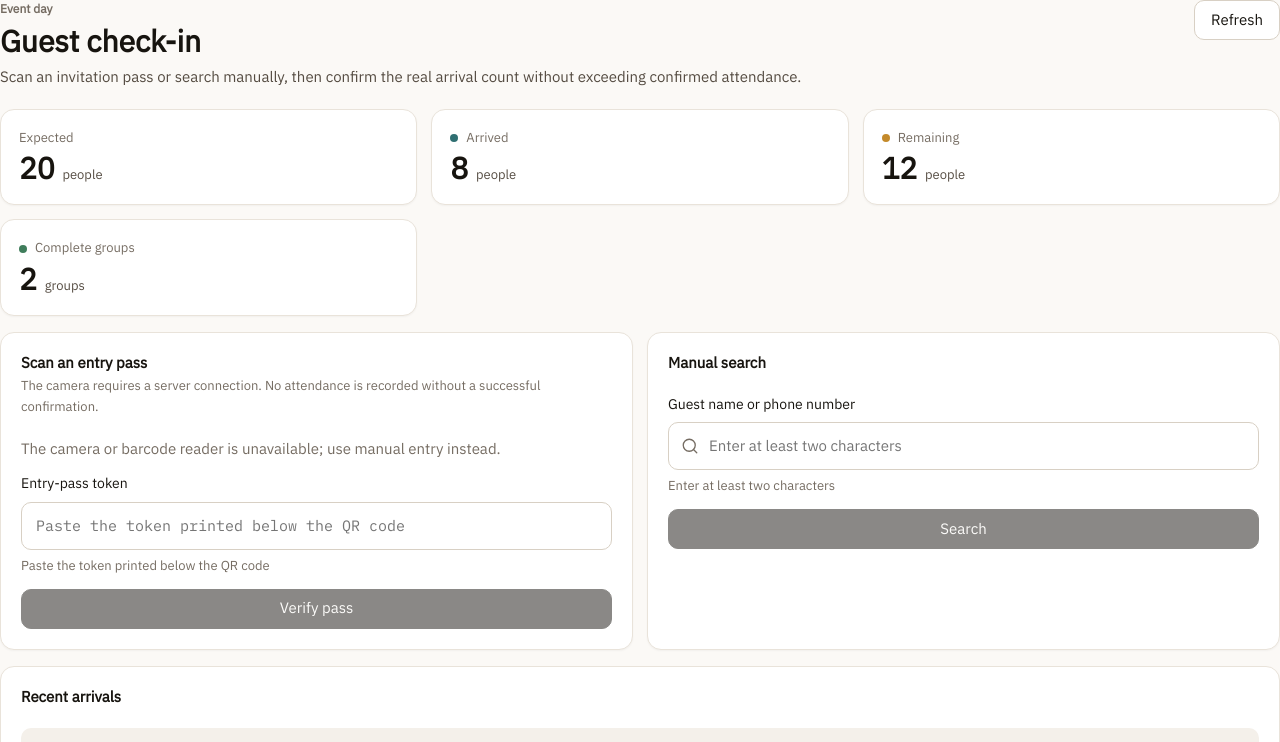
Scenario: event check-in › surfaces a failed check-in instead of assuming success
This screenshot has width=1280, height=742.
Step 1. Type "Shammari" into the field labelled "Guest name or phone number" → (976, 446), box [707,433,1246,459]
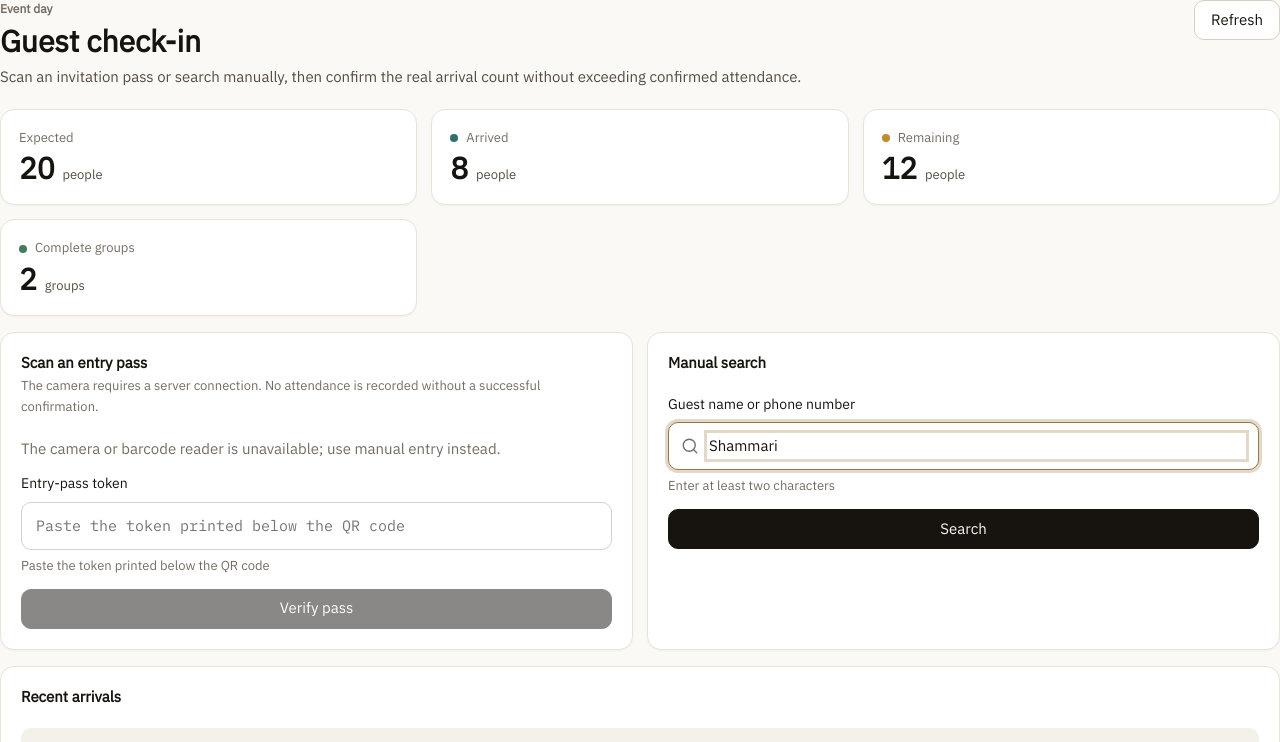
Step 2. Click the button "Search" → (964, 529), box [668,509,1259,549]
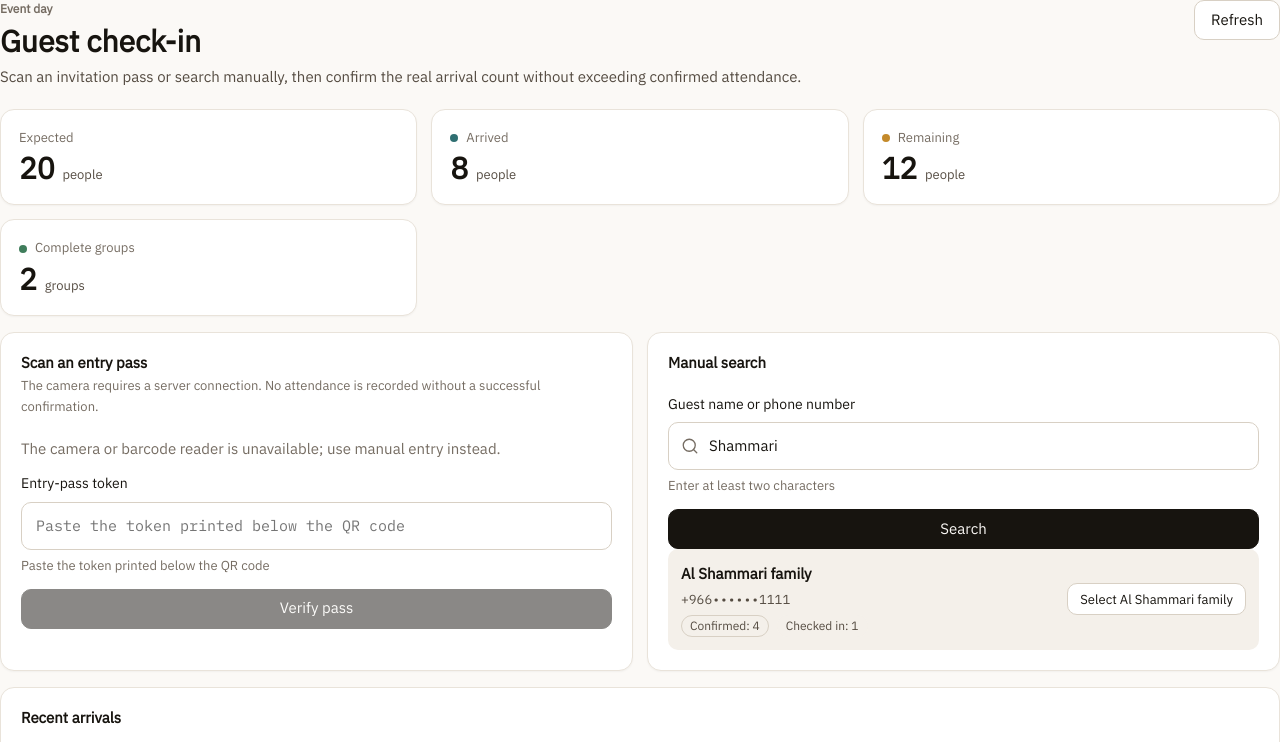
Step 3. Click the button "Select Al Shammari family" → (1157, 600), box [1067,584,1246,616]
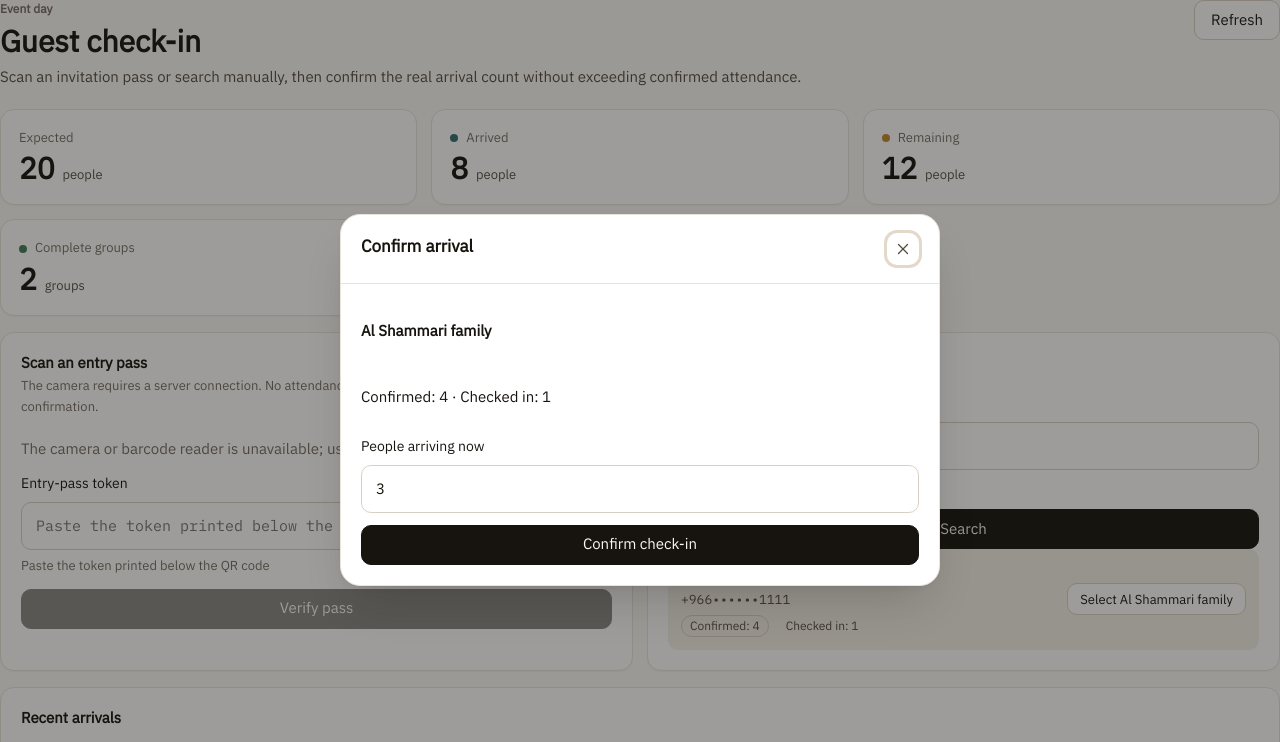
Step 4. Click the button "Confirm check-in" → (640, 545), box [361,525,919,565]
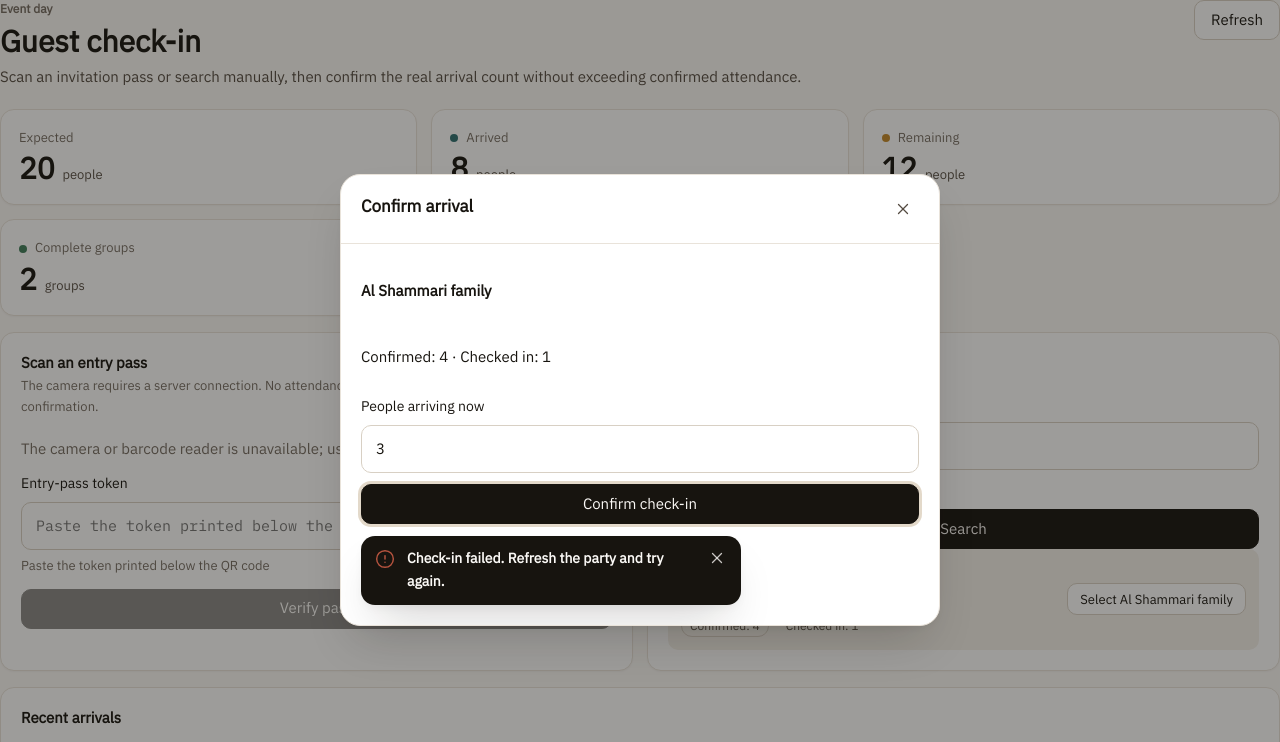
Now the text "Check-in failed. Refresh the party and try again." is shown, box [407,548,695,593]
